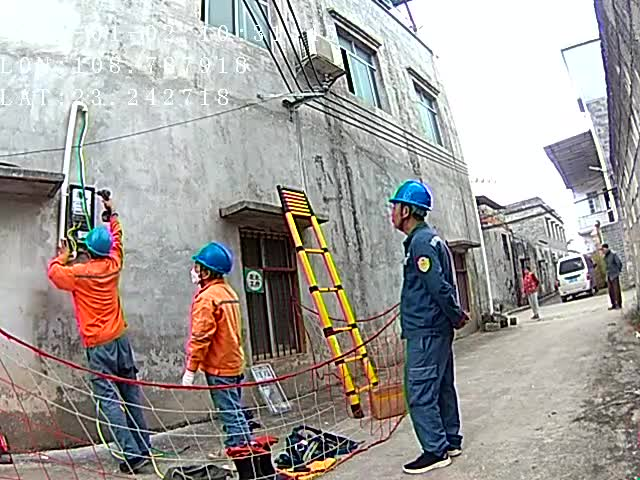downcloth: (84, 345, 150, 458), (209, 376, 251, 444), (527, 291, 540, 314)
downsuit: (404, 334, 459, 449)
halt: (385, 179, 434, 233), (186, 241, 236, 283), (85, 226, 114, 257)
inear: (398, 203, 413, 228), (196, 267, 213, 279)
person: (43, 225, 161, 470), (379, 176, 470, 477), (182, 239, 257, 459), (598, 243, 626, 310), (520, 265, 545, 321)
sleeve: (413, 253, 435, 276)
unhalt: (523, 266, 531, 275)
upcloth: (522, 273, 541, 296)
upsuit: (397, 228, 464, 333)
wglove: (181, 369, 199, 391)
worksign: (243, 262, 270, 296)
yupsuit: (48, 253, 129, 344), (182, 280, 249, 375)
